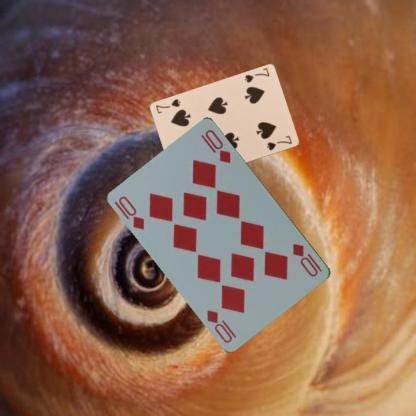10d: (290, 240, 324, 278), (112, 193, 146, 231)
7s: (242, 66, 271, 84)
